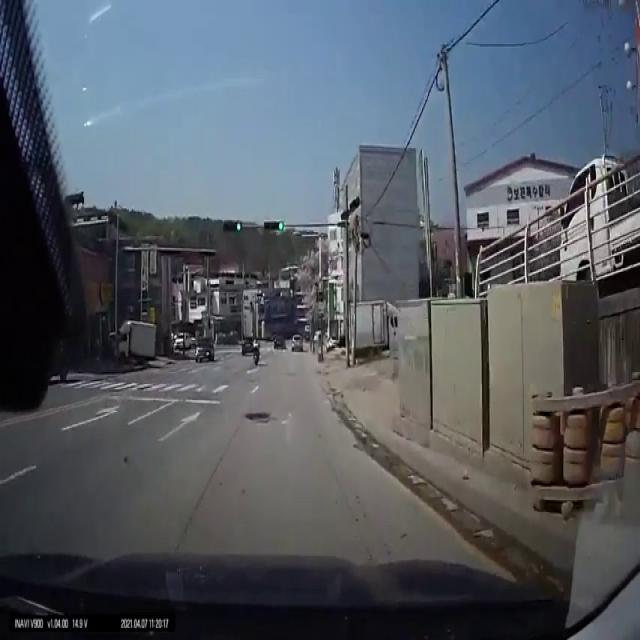Pothole: (244, 409, 272, 423)
